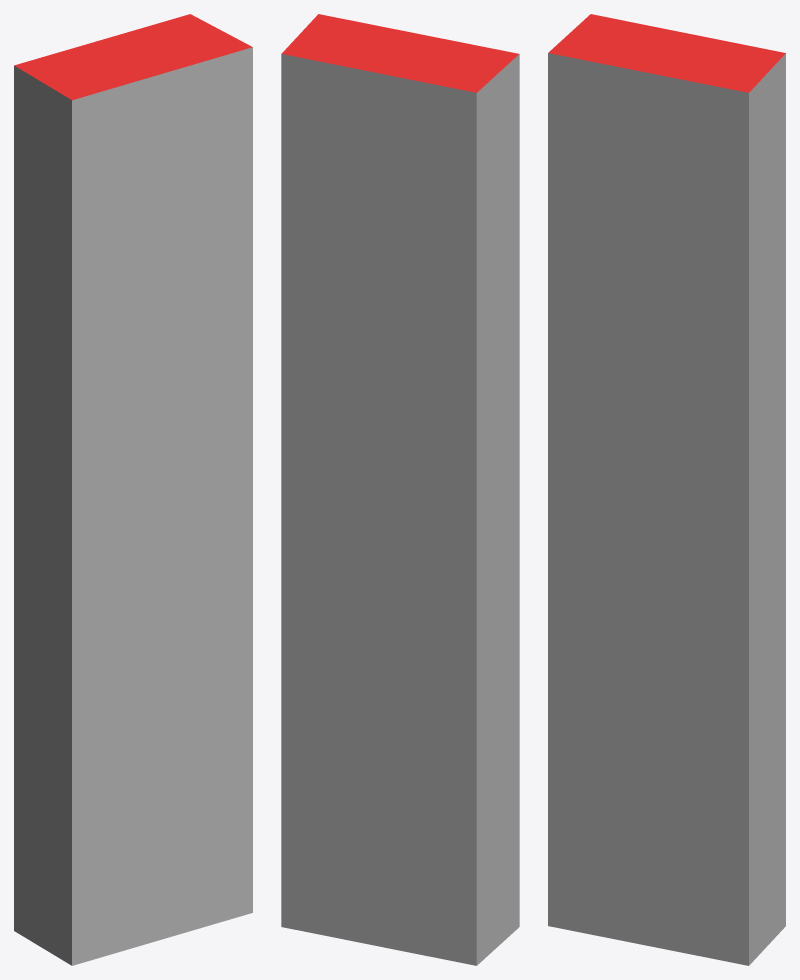
Rendered from DEBE3D04YY50002bkm.dae.
3 views of the same model, side by side, from view 1: azimuth 30°, elevation 25°; view 2: azimuth 150°, elevation 25°; view 3: azimuth 330°, elevation 25° (orthographic).
Bounding box in the file's own units: 3.77 × 1.95 × 15.77.
